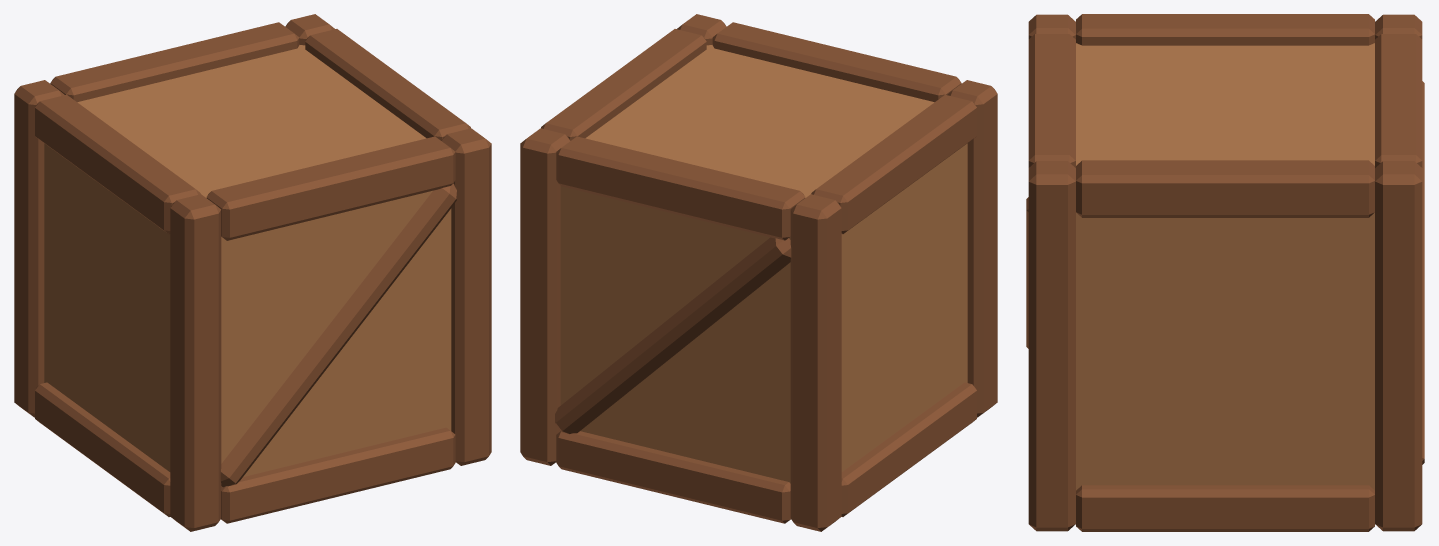
The model's file is Prop_Crate.fbx.
3 views of the same model, side by side, from view 1: azimuth 30°, elevation 25°; view 2: azimuth 150°, elevation 25°; view 3: azimuth 270°, elevation 25° (orthographic). The views are drawn at different scales.
Visible parts, largest first — view 1: Prop_Crate; view 2: Prop_Crate; view 3: Prop_Crate.
Boxes of the visible parts, x1=… form: Prop_Crate: x1=14, y1=14, x2=491, y2=531; Prop_Crate: x1=520, y1=14, x2=997, y2=531; Prop_Crate: x1=1026, y1=14, x2=1424, y2=531.
Bounding box in the file's own units: 0.5 × 0.5 × 0.506.
